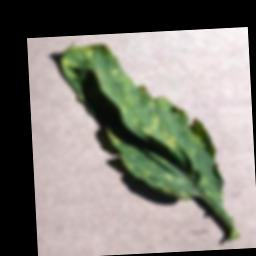Leaf_Mold: (140, 112, 162, 136), (162, 132, 178, 150)
